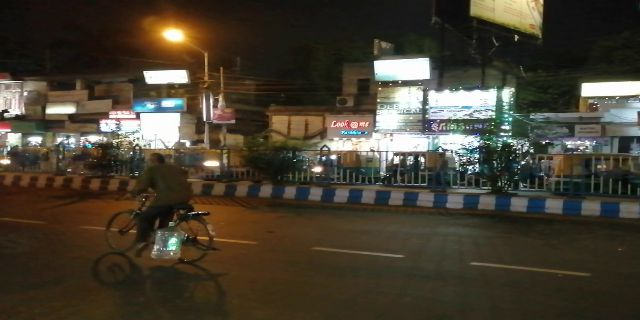Cycle: (101, 152, 223, 273)
